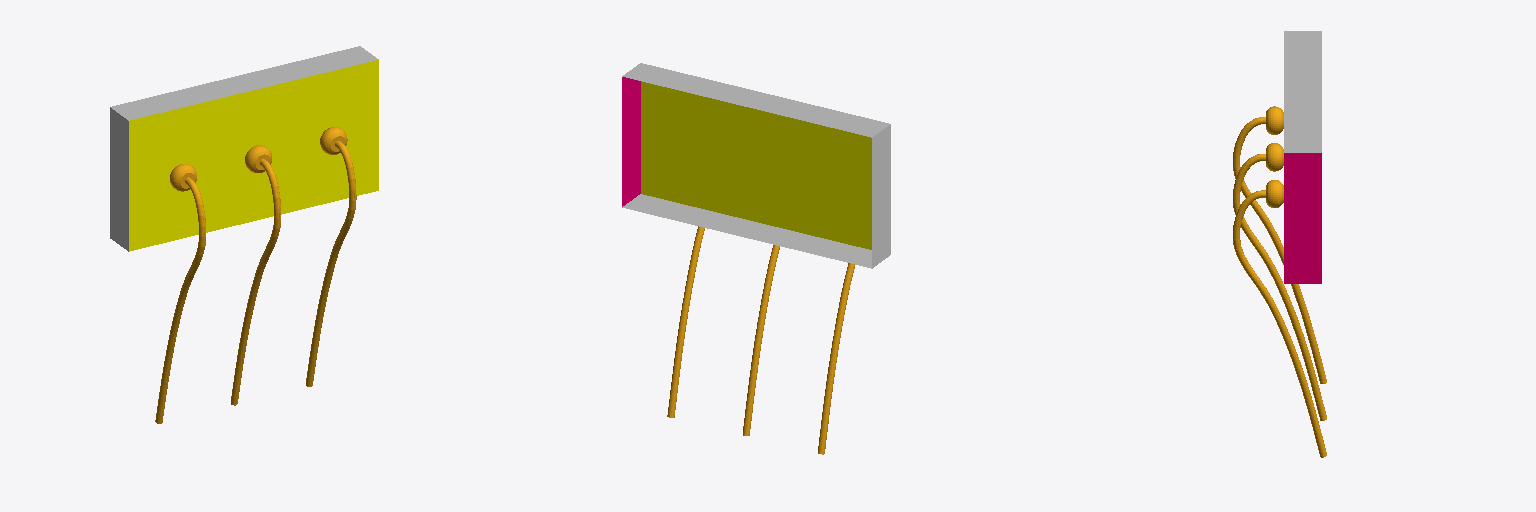
File: On_Chip_Diode.obj
3 views of the same model, side by side, from view 1: azimuth 30°, elevation 25°; view 2: azimuth 150°, elevation 25°; view 3: azimuth 270°, elevation 25° (orthographic).
Visible parts, largest first — view 1: Body2, Body3, Body4, Body5; view 2: Body2, Body4, Body5, Body3; view 3: Body2, Body3, Body4, Body5.
Part boxes in pixels (bbox=[...]): Body2: bbox=[110, 46, 378, 251]; Body3: bbox=[306, 127, 356, 386]; Body4: bbox=[231, 145, 280, 405]; Body5: bbox=[155, 164, 205, 423]; Body2: bbox=[622, 63, 890, 268]; Body4: bbox=[743, 245, 779, 435]; Body5: bbox=[818, 263, 854, 454]; Body3: bbox=[667, 226, 704, 417]; Body2: bbox=[1284, 31, 1321, 283]; Body3: bbox=[1233, 180, 1326, 457]; Body4: bbox=[1233, 143, 1326, 420]; Body5: bbox=[1233, 106, 1326, 383].
Bounding box in the file's own units: 0.1 × 0.1253 × 0.0327.